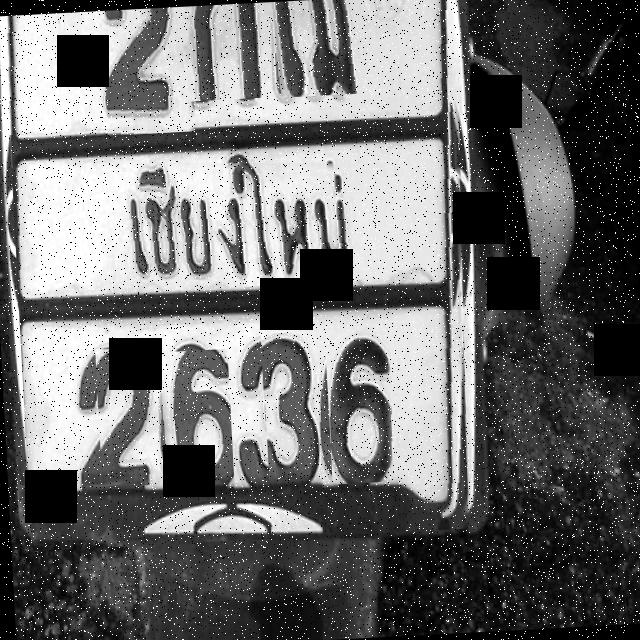letters: (101, 6, 202, 136), (324, 318, 398, 484), (158, 348, 235, 494), (96, 346, 170, 490), (261, 331, 323, 496), (269, 0, 357, 98), (180, 3, 264, 102)
license-plate: (9, 0, 466, 537)
province: (105, 149, 359, 294)
